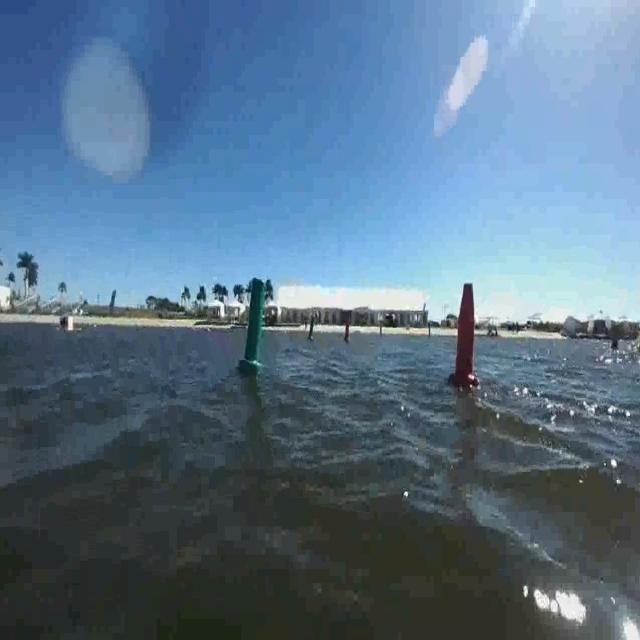green-column-buoy: (240, 276, 270, 373)
red-column-buoy: (452, 280, 479, 390)
